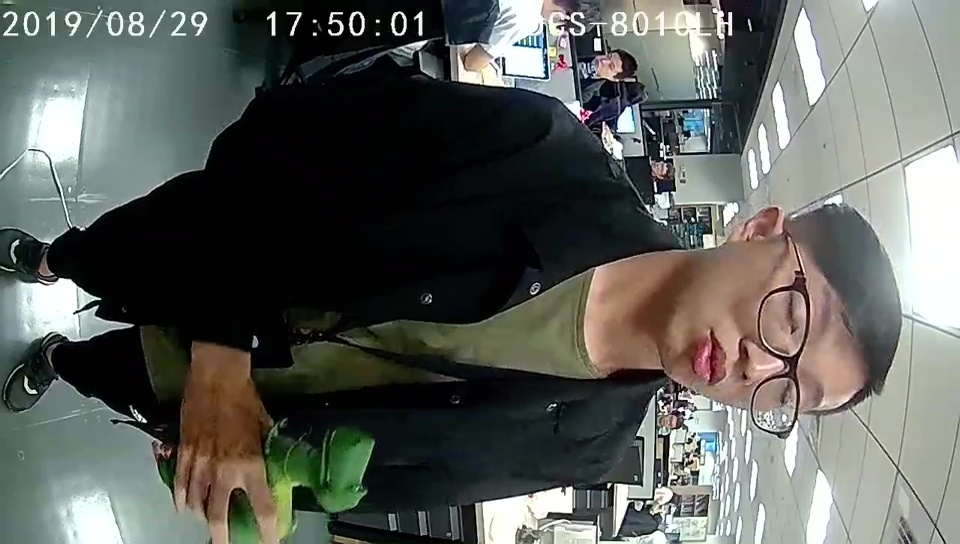rex: (149, 422, 378, 544)
